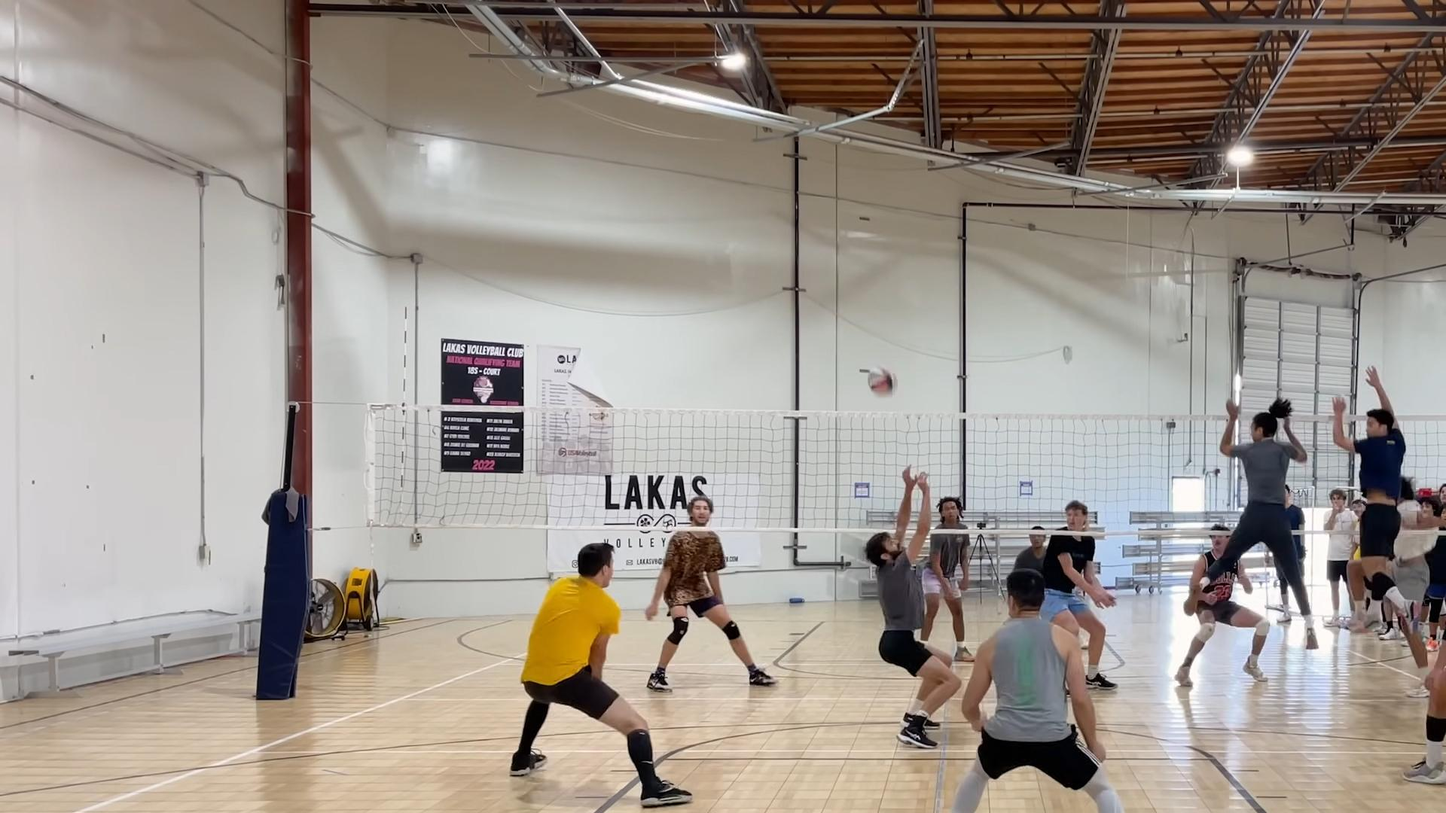Dig: (868, 463, 962, 753)
Player: (511, 544, 691, 807), (952, 570, 1121, 812), (1191, 399, 1318, 649), (645, 495, 776, 692), (1332, 367, 1409, 628), (1040, 501, 1117, 690), (1175, 563, 1270, 686), (920, 532, 972, 662), (1403, 647, 1445, 784), (1013, 526, 1048, 573)
ball: (865, 366, 899, 396)
